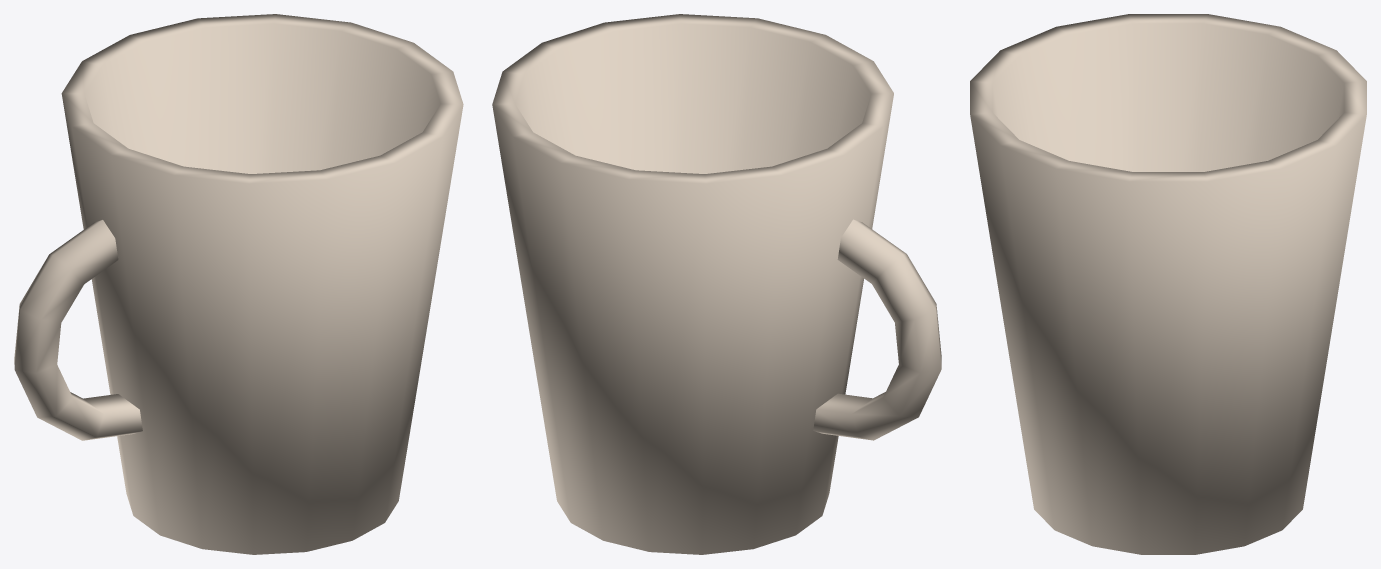
Rendered from Mug.fbx.
3 views of the same model, side by side, from view 1: azimuth 30°, elevation 25°; view 2: azimuth 150°, elevation 25°; view 3: azimuth 270°, elevation 25° (orthographic).
Parts seen in each view (by area): view 1: Mug, Mug_Handle; view 2: Mug, Mug_Handle; view 3: Mug.
Boxes of the visible parts, x1,y1,x2,y2 form: Mug: (61, 14, 463, 554); Mug_Handle: (14, 220, 142, 440); Mug: (492, 14, 893, 554); Mug_Handle: (813, 219, 941, 440); Mug: (970, 14, 1366, 554).
Bounding box in the file's own units: 289 × 262 × 236.
